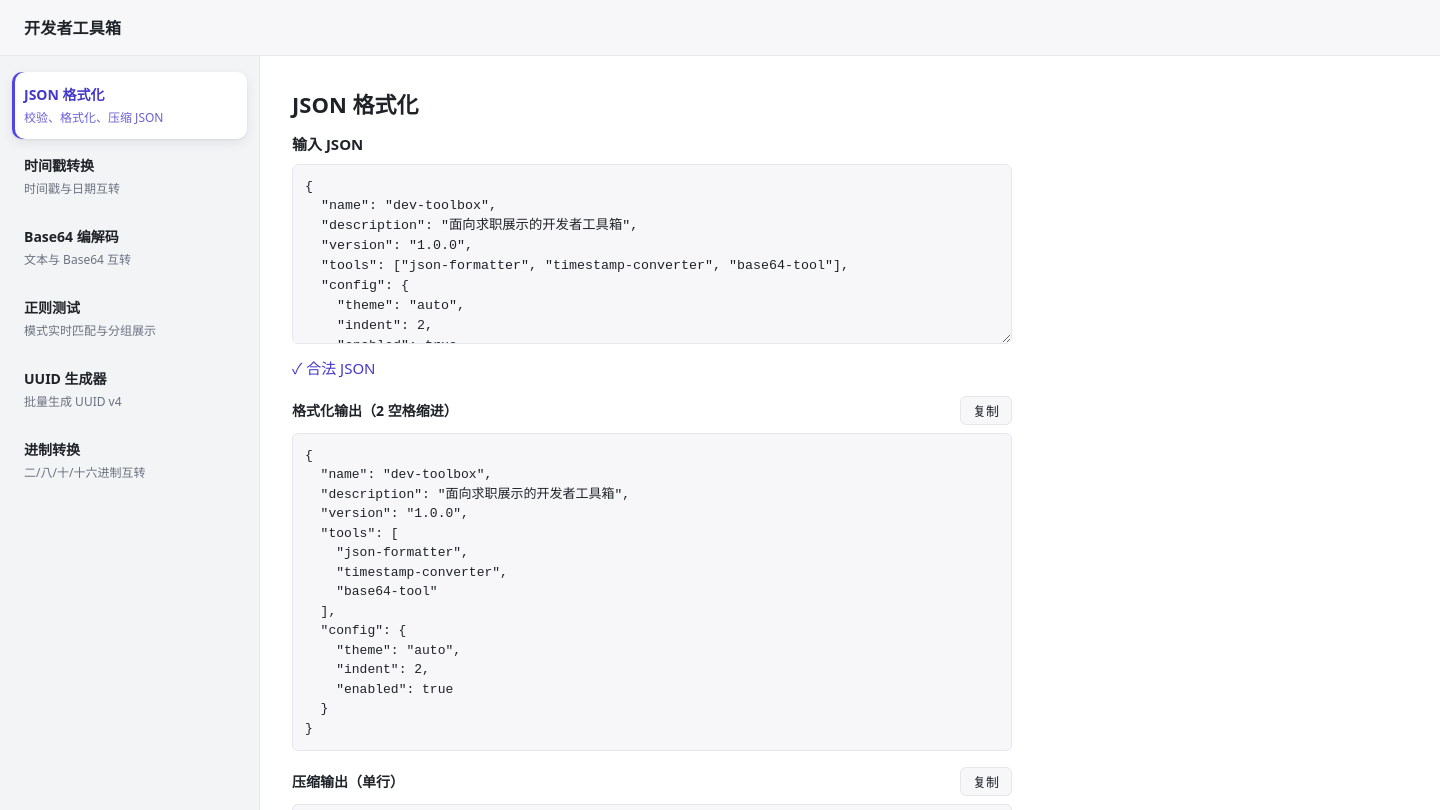
AC-2 侧边栏切换与 hash 选中保持 › AC-2: 依次点击多个工具都能正确切换
Click the link "Base64 编解码 文本与 Base64 互转" at point(78, 248), box x1=24 y1=227 x2=131 y2=268
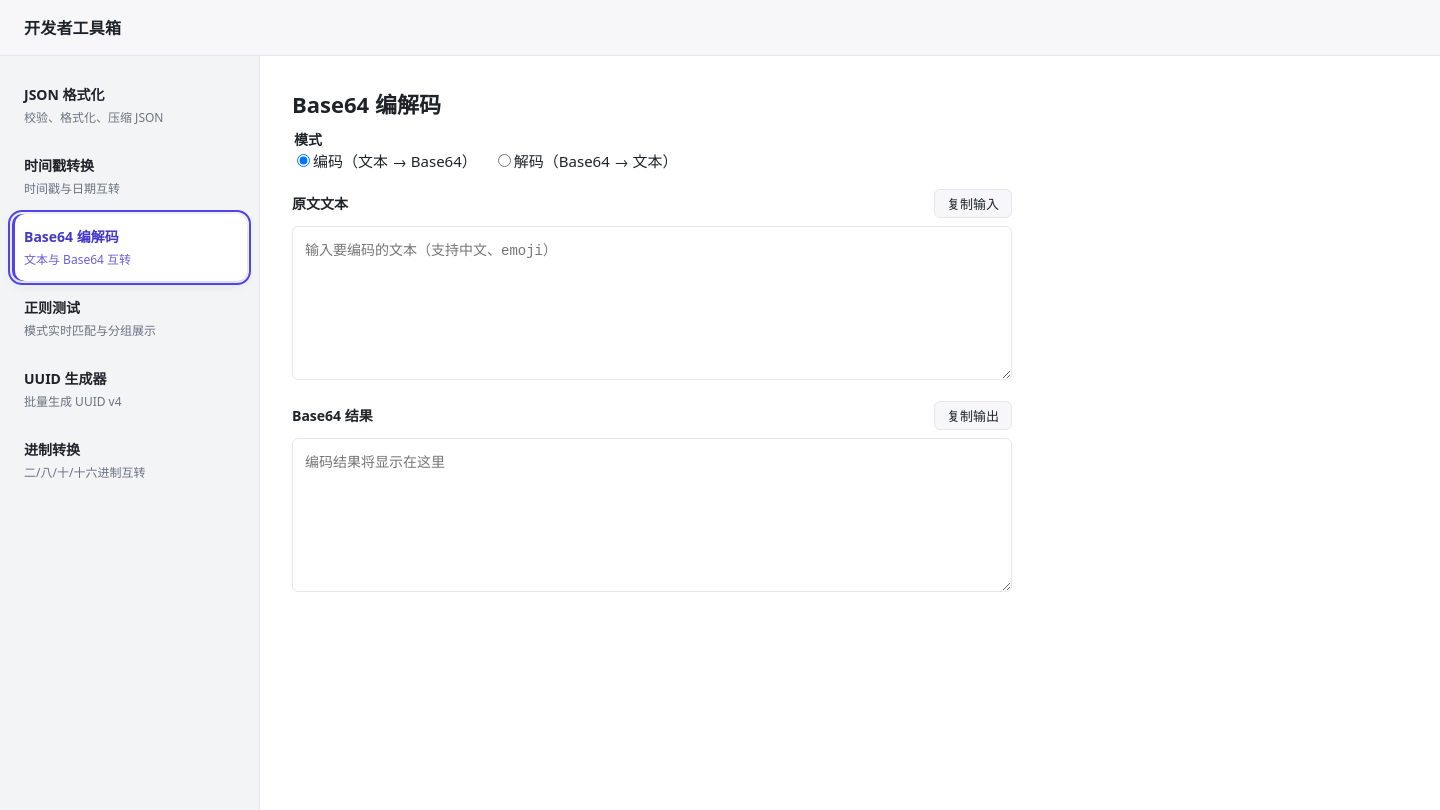
Expected: the heading "Base64 编解码" is shown, x1=292 y1=89 x2=441 y2=119
Click the link "正则测试 模式实时匹配与分组展示" at point(52, 308), box x1=24 y1=298 x2=156 y2=339
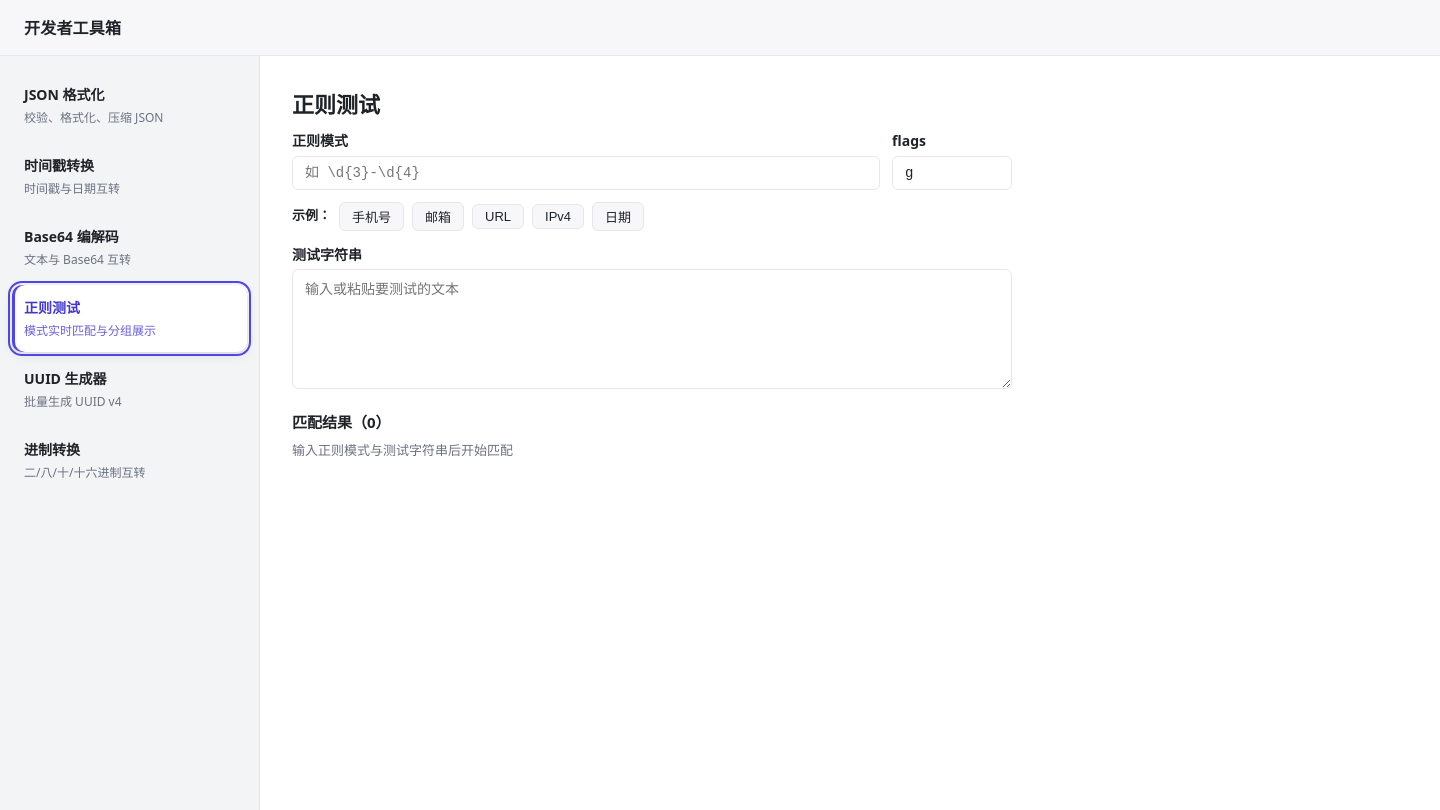
Expected: the heading "正则测试" is shown, x1=292 y1=89 x2=380 y2=119
